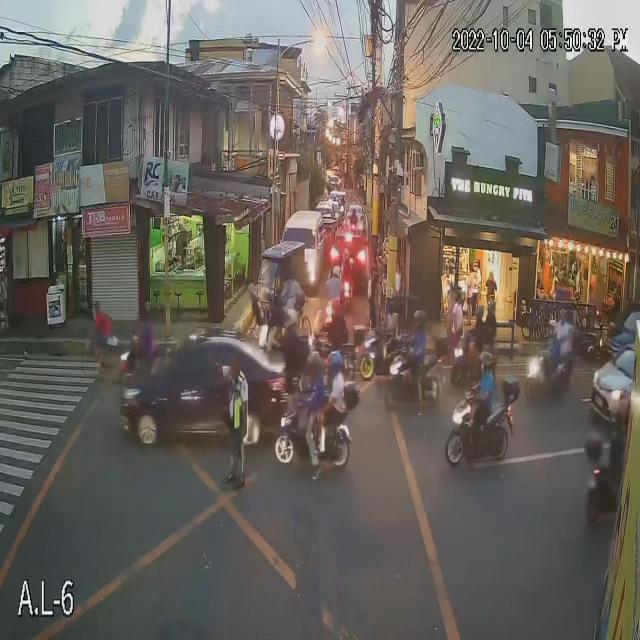helmet: (322, 351, 348, 381), (409, 307, 432, 336), (464, 353, 503, 370), (303, 349, 322, 379), (139, 296, 164, 318), (328, 257, 347, 279), (382, 297, 400, 319), (482, 298, 500, 315), (560, 307, 576, 325), (541, 317, 558, 332), (470, 305, 483, 323)
motorcycle: (268, 397, 355, 471), (438, 398, 520, 476), (582, 453, 623, 533), (383, 358, 443, 410), (361, 335, 431, 379), (438, 343, 503, 387), (527, 353, 582, 397), (119, 343, 162, 383), (315, 301, 352, 342), (341, 276, 359, 309), (345, 221, 361, 239)
rider: (296, 349, 324, 429), (606, 396, 634, 470), (322, 348, 350, 411), (473, 349, 498, 419), (408, 305, 437, 360), (556, 306, 576, 377), (536, 316, 559, 371), (377, 294, 403, 341), (133, 302, 157, 351), (468, 298, 489, 353), (486, 297, 507, 339), (329, 265, 344, 312), (348, 206, 360, 225)
